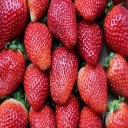strawberry: (47, 44, 78, 104), (77, 59, 108, 113), (24, 19, 51, 71), (104, 97, 128, 128)
